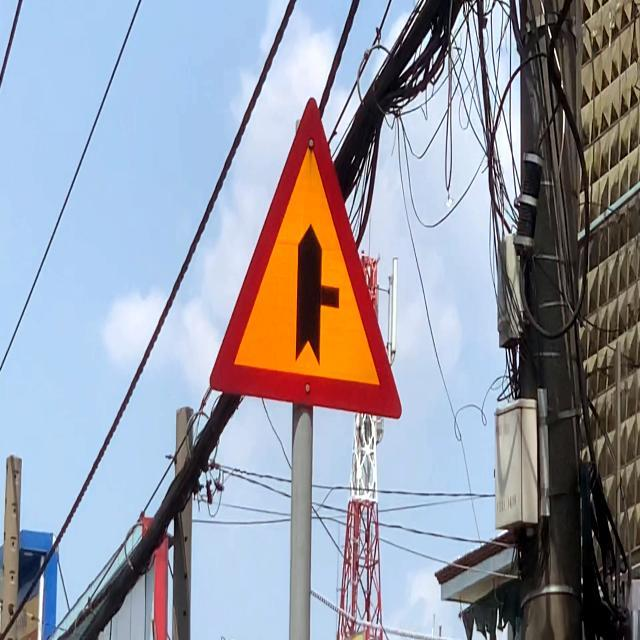W-207b: (210, 96, 401, 418)
